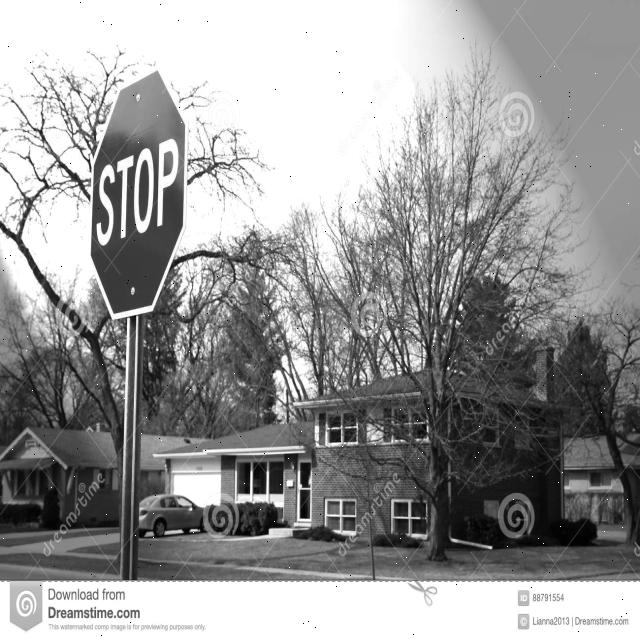Stop-sign: (75, 57, 196, 326)
